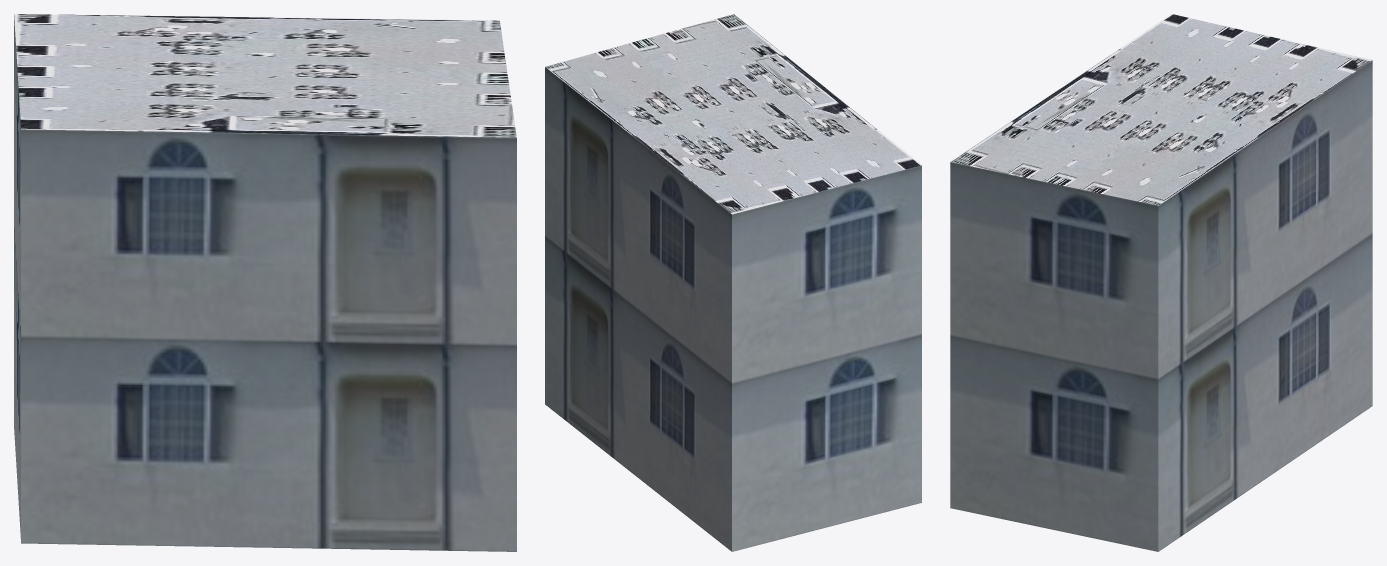
The model's file is ResTex__4929.fbx.
3 views of the same model, side by side, from view 1: azimuth 30°, elevation 25°; view 2: azimuth 150°, elevation 25°; view 3: azimuth 270°, elevation 25° (orthographic). The views are drawn at different scales.
Parts seen in each view (by area): view 1: CityEngineMaterial_17_m, CityEngineMaterial_8_m; view 2: CityEngineMaterial_17_m, CityEngineMaterial_8_m; view 3: CityEngineMaterial_17_m, CityEngineMaterial_8_m.
Boxes of the visible parts, left/top/right/bottom form: CityEngineMaterial_17_m: left=14, top=15, right=516, bottom=551; CityEngineMaterial_8_m: left=14, top=14, right=516, bottom=137; CityEngineMaterial_17_m: left=545, top=67, right=921, bottom=551; CityEngineMaterial_8_m: left=545, top=14, right=921, bottom=214; CityEngineMaterial_17_m: left=950, top=60, right=1372, bottom=551; CityEngineMaterial_8_m: left=951, top=14, right=1371, bottom=205.
Size of the model in its own units: 7.13 by 6 by 6.63.
Materials: 2 (2 with a texture image).
